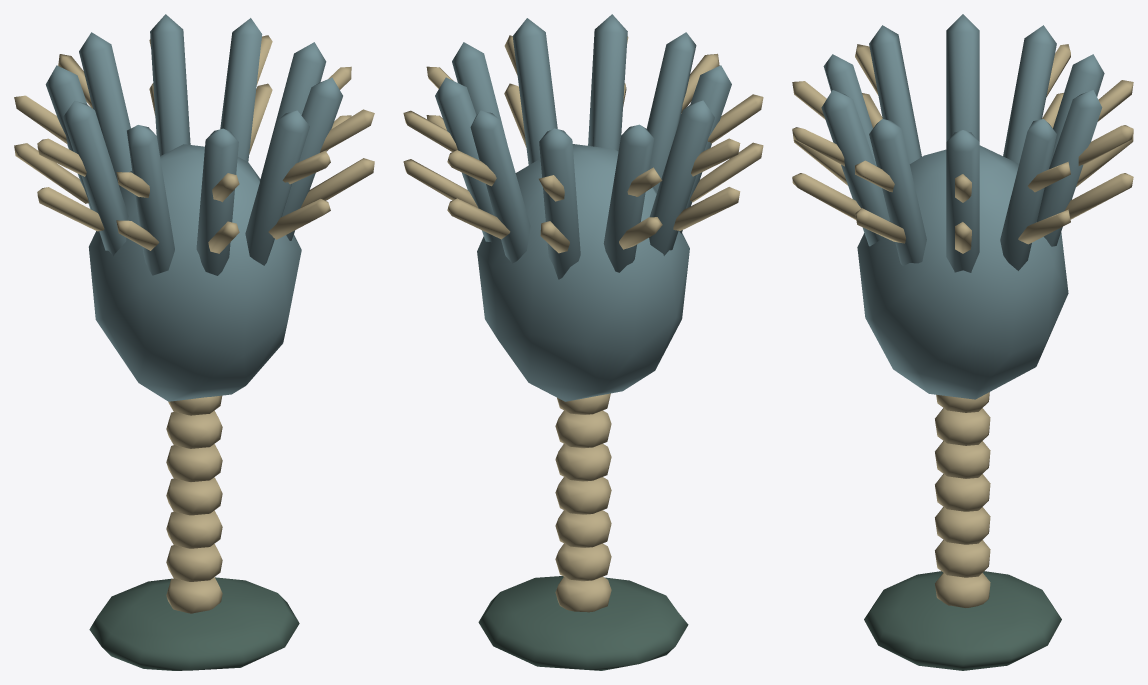
The model's file is org_eucalyptocrinites.glb.
The picture shows the model from 3 angles, left to right: view 1: azimuth 30°, elevation 25°; view 2: azimuth 150°, elevation 25°; view 3: azimuth 270°, elevation 25°; orthographic projection.
Visible parts, largest first — view 1: Body; view 2: Body; view 3: Body.
Part boxes in pixels (x1=…): Body: x1=14, y1=14, x2=374, y2=670; Body: x1=403, y1=14, x2=763, y2=670; Body: x1=792, y1=14, x2=1133, y2=670.
Bounding box in the file's own units: 0.427 × 0.7512 × 0.4061.
